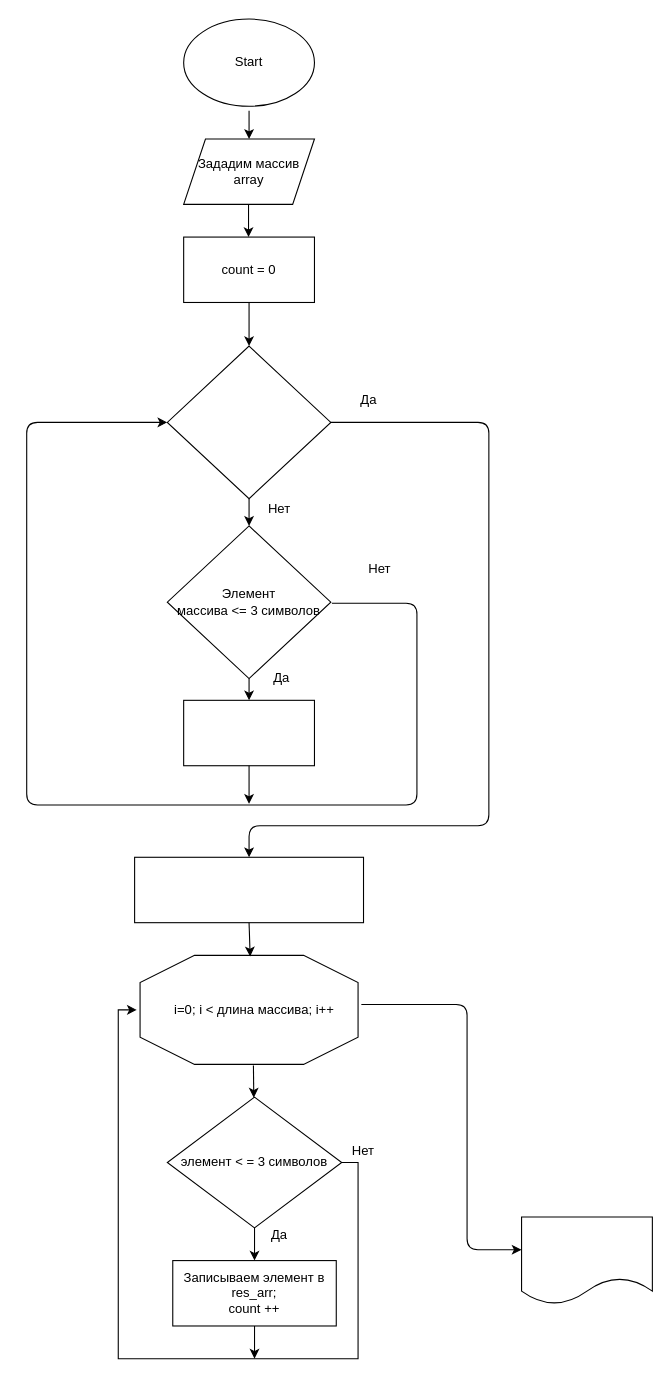
This 671x1386 diagram has some shape labels left out. Here are the shapes that lost their labels. From the top down, the box of each, then its label:
(166, 345, 331, 499): Массив закончился?
(183, 699, 314, 766): count ++
(134, 856, 364, 923): создаем массив res_arr для результата с количеством элементов count; count =0
(520, 1216, 652, 1304): вывести на печать массив результата
